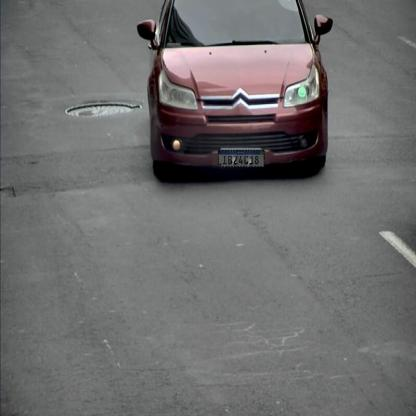PlacaM: (218, 150, 265, 167)
